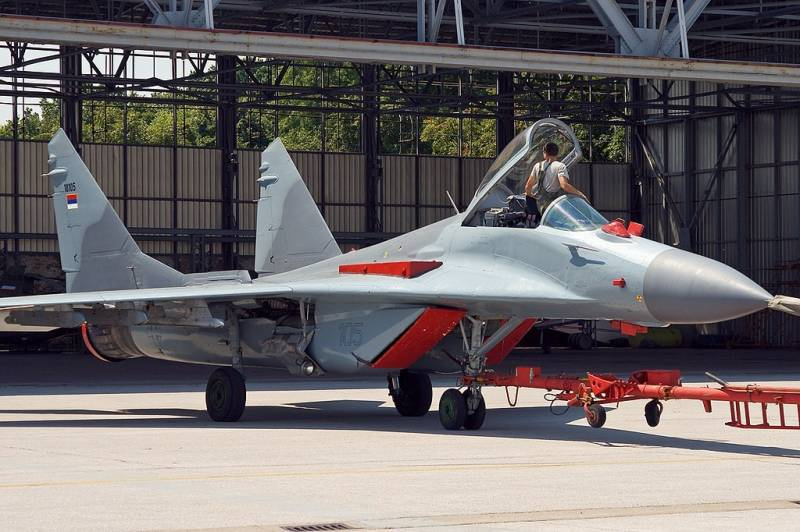Mig-29: (16, 77, 783, 427)
